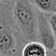cell: (6, 43, 20, 56), (1, 18, 12, 33), (28, 13, 40, 26), (1, 1, 14, 10)
